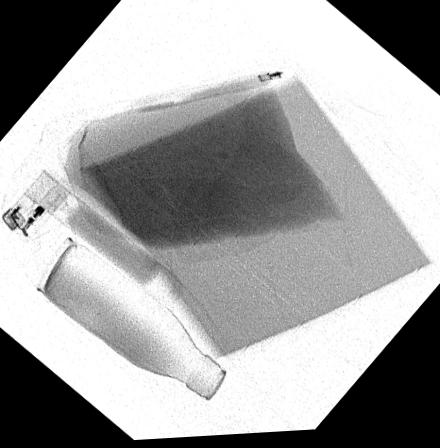Lighter: (0, 167, 73, 238)
